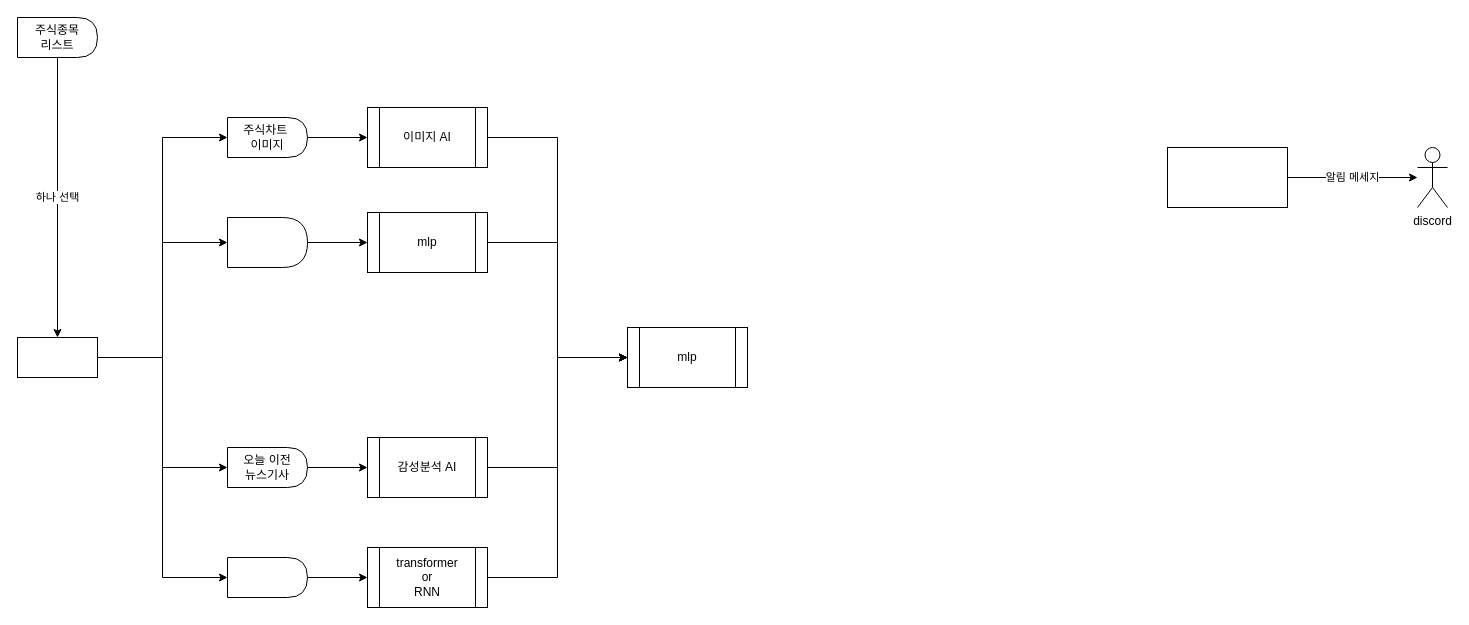
The diagram is 1469 pixels wide and 625 high, and some of its shapes have lost their labels. The centre of each missing label's shape, as x and y in pixels:
"과거 주식 가격 데이터" belongs at point (267, 577).
"제무제표 및 종목 정보" belongs at point (267, 242).
"주식 매매 알림" belongs at point (1227, 177).
"크롤링" belongs at point (57, 357).
